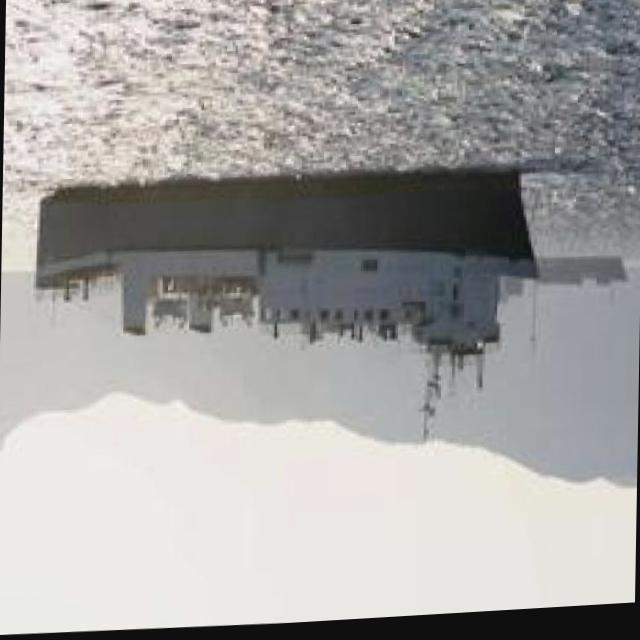ship2: (31, 175, 539, 445)
